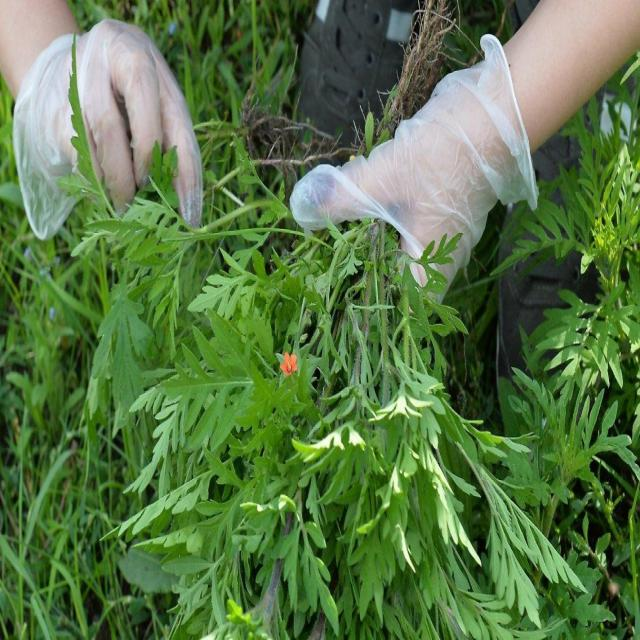ambrosia: (314, 281, 526, 617), (72, 154, 206, 392)
